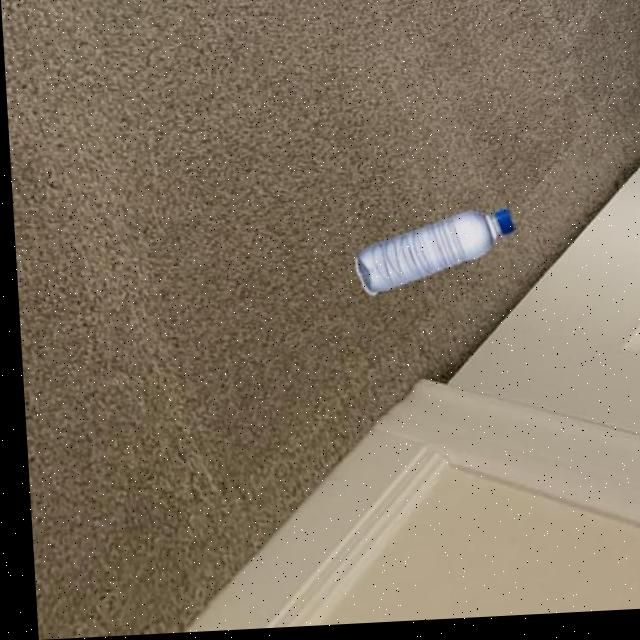bottle: (348, 211, 516, 300)
